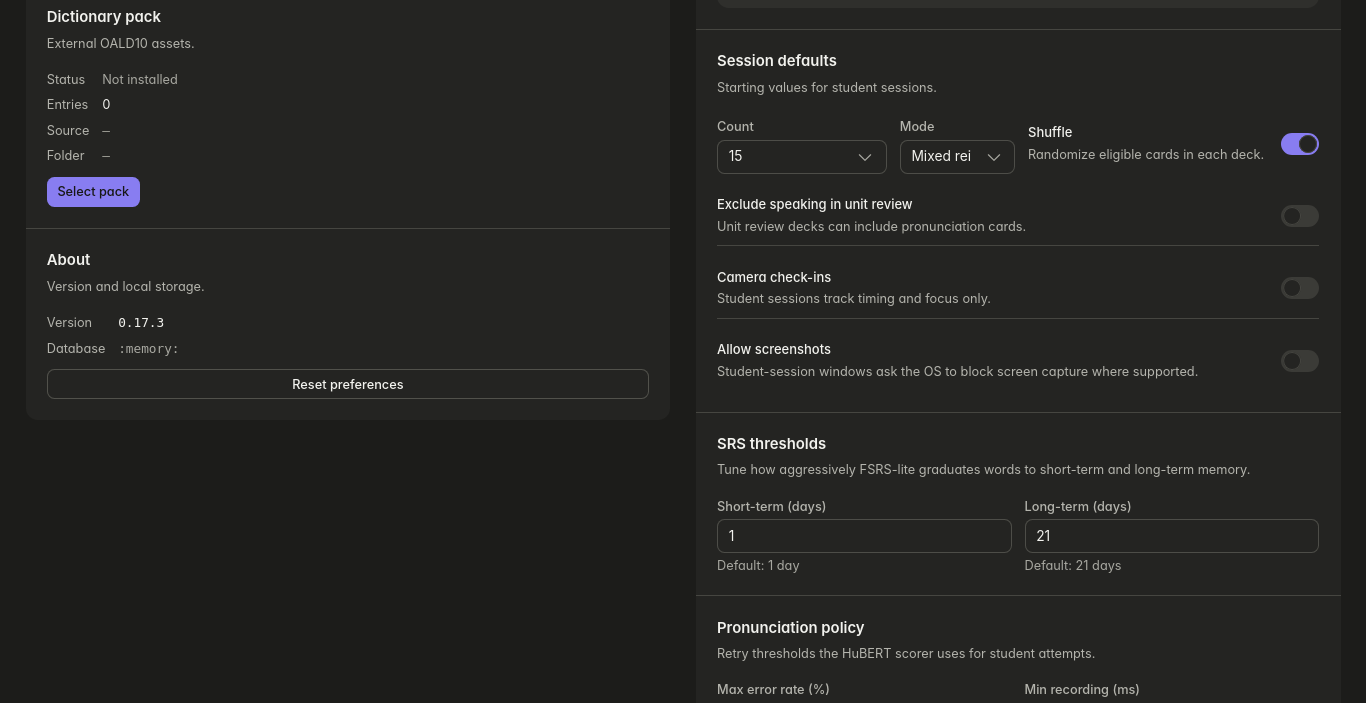
Scenario: TutorSettings › keeps active preferences until confirmation, then resets every provider-backed value
This screenshot has width=1366, height=703.
(page scrolled)
Click the button "Reset preferences" at (348, 384), box [47,369,649,399]
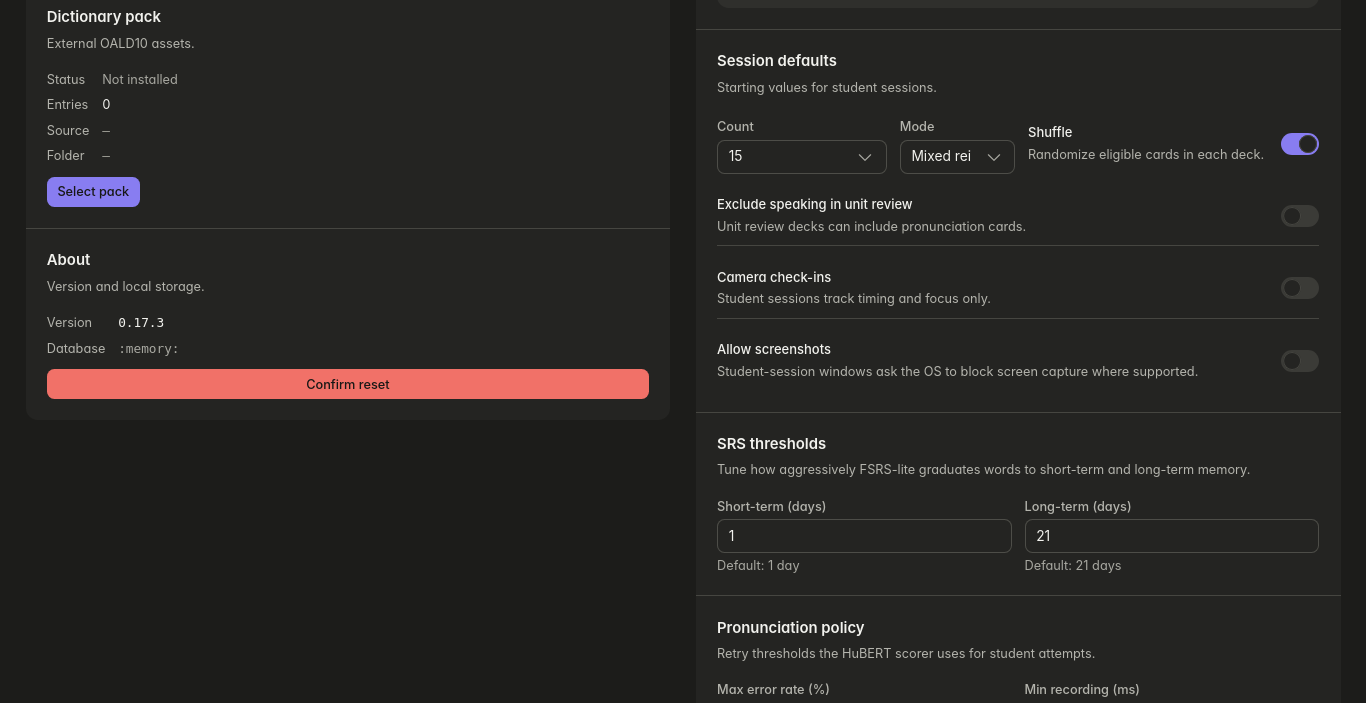
Click the button "Confirm reset" at (348, 384), box [47,369,649,399]
(page scrolled)
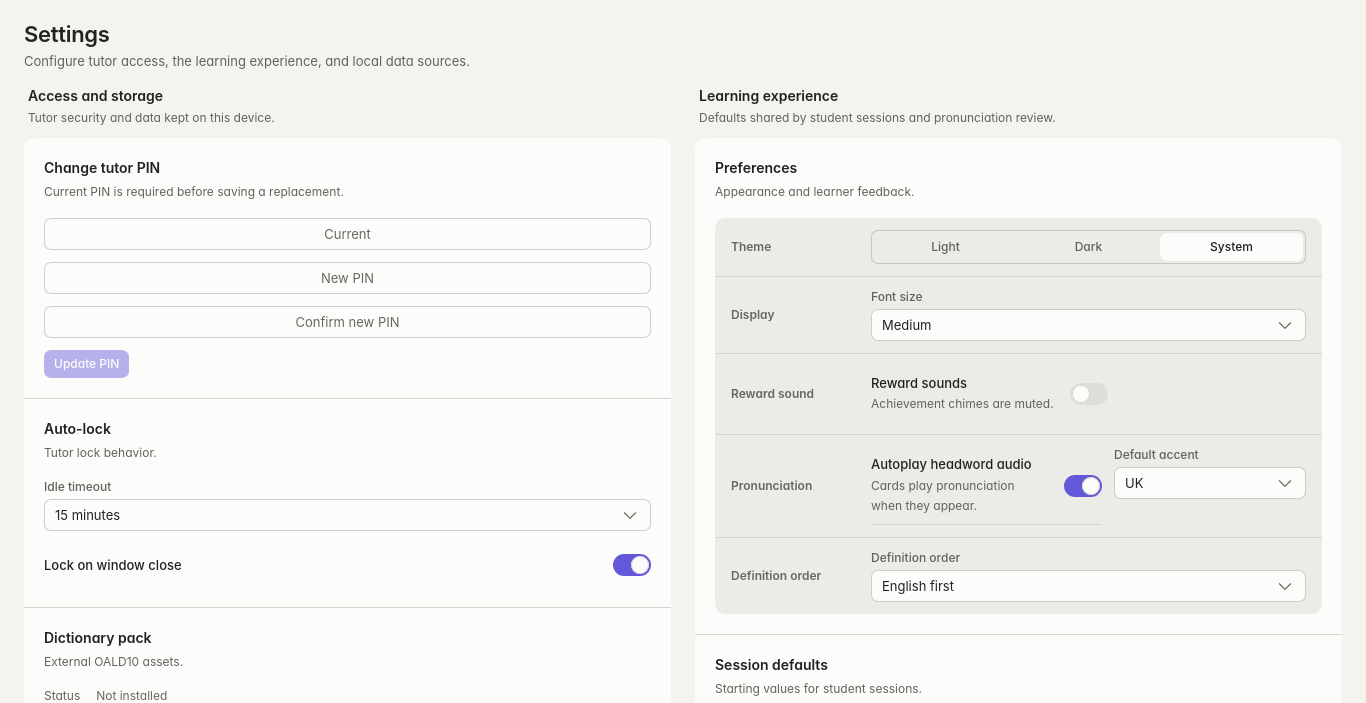
Check: the dropdown labelled "Font size" shows "Medium", box [871,309,1306,341]
Check: the switch labelled "Autoplay headword audio" is checked, box [871,448,1102,525]
Check: the dropdown labelled "Default accent" shows "UK", box [1114,468,1306,500]
